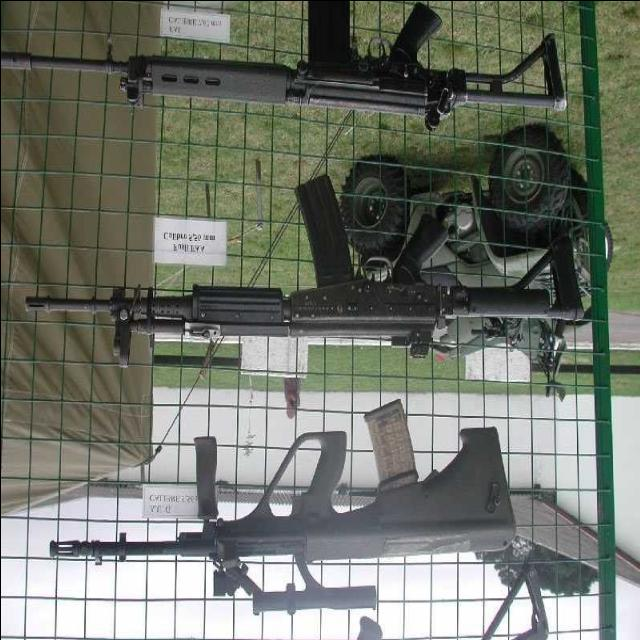heavyweapon: (5, 177, 589, 407), (40, 400, 536, 638), (1, 1, 591, 173)
